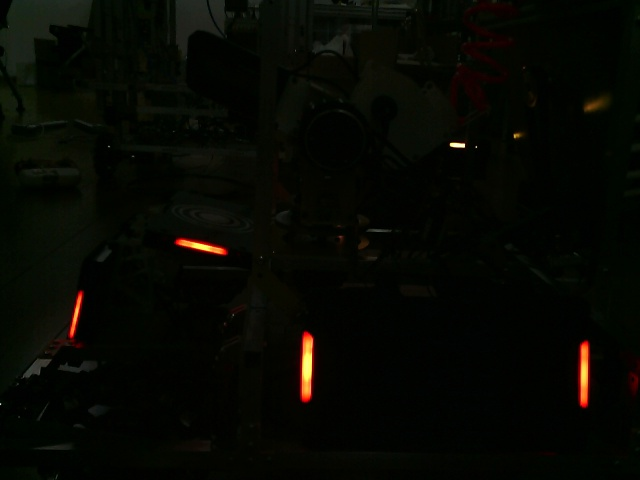lamp: (298, 332, 321, 405), (577, 344, 593, 411), (69, 288, 83, 343)
